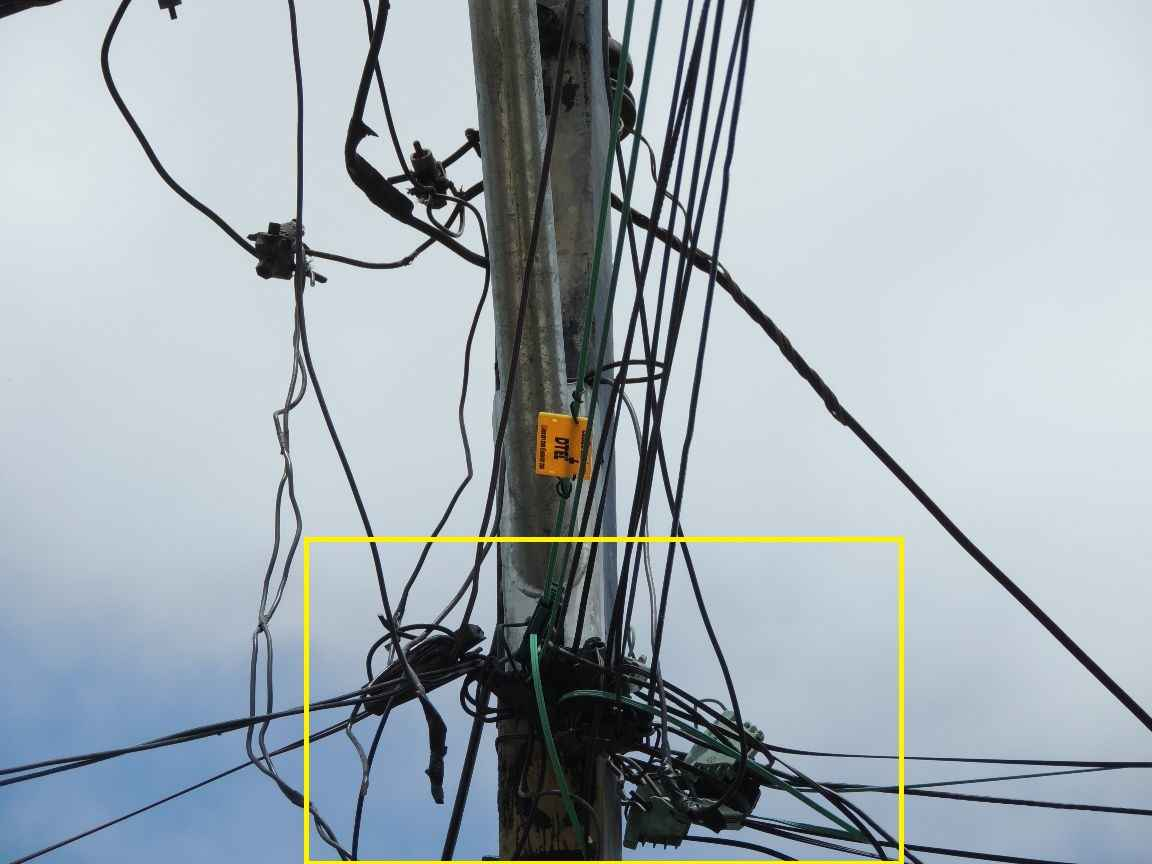drop: (625, 677, 766, 844), (499, 605, 610, 756), (359, 602, 469, 709)
fibra_optica: (527, 407, 594, 492)
